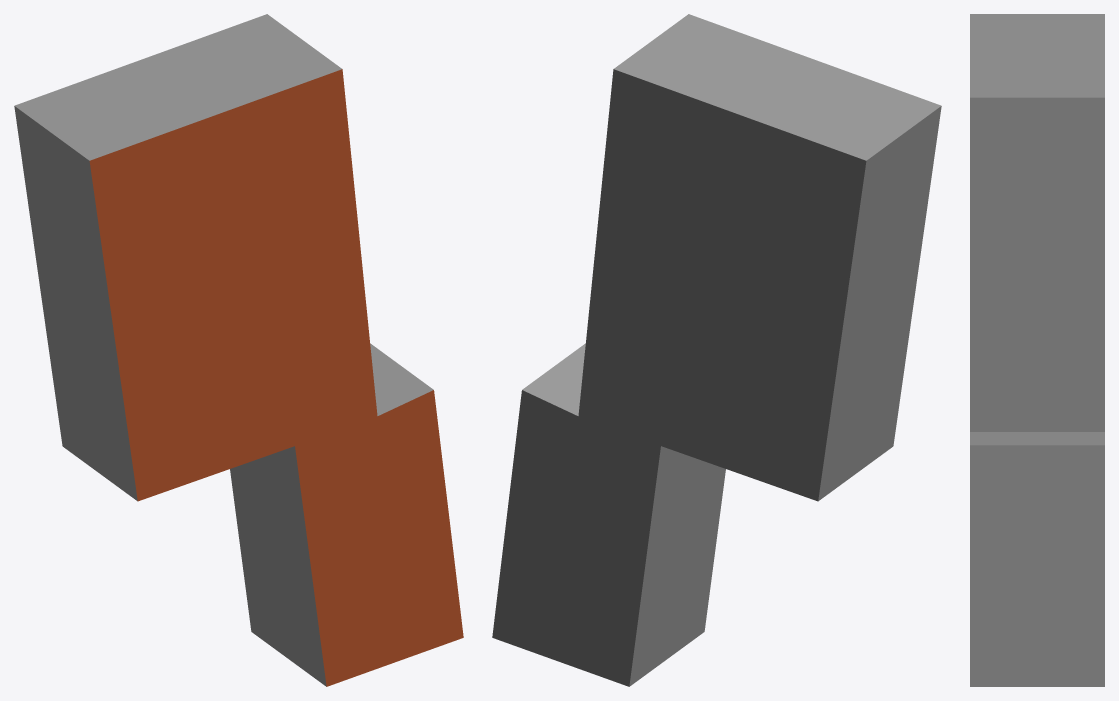
The model's file is construction_1952_assumed_A_Casa_h6m.obj.
3 renders of one model, left to right at view 1: azimuth 30°, elevation 25°; view 2: azimuth 150°, elevation 25°; view 3: azimuth 270°, elevation 25°, orthographic. The views are drawn at different scales.
Parts seen in each view (by area): view 1: construction_1952_assumed_A_Casa; view 2: construction_1952_assumed_A_Casa; view 3: construction_1952_assumed_A_Casa.
Boxes of the visible parts, <box> form: construction_1952_assumed_A_Casa: <box>14,14,463,686</box>; construction_1952_assumed_A_Casa: <box>492,14,941,686</box>; construction_1952_assumed_A_Casa: <box>970,14,1104,686</box>.
Size of the model in its own units: 17.22 by 27 by 6.
